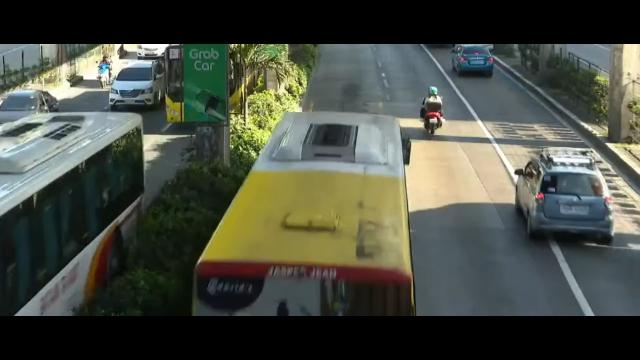bus: (190, 114, 418, 316), (0, 112, 148, 314), (156, 49, 188, 139)
car: (512, 148, 613, 244), (109, 62, 168, 108), (451, 46, 495, 76)
motorcycle: (419, 86, 445, 136), (96, 54, 113, 89)
pickup-truck: (0, 88, 64, 125)
